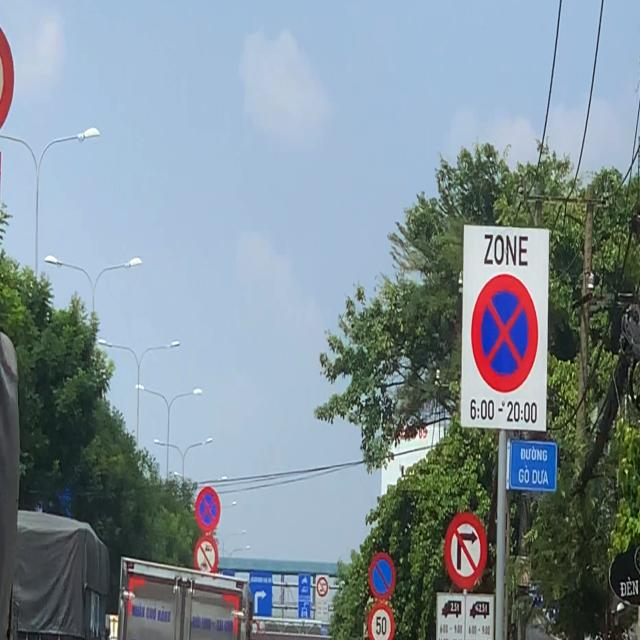Cam con lai: (194, 536, 218, 574), (316, 575, 328, 599)
Cam do: (369, 552, 396, 601)
Cam dung va do: (471, 273, 539, 393), (195, 486, 221, 532)
Cam re phai: (445, 512, 487, 588)
Toc do toi da: (368, 604, 394, 640)
